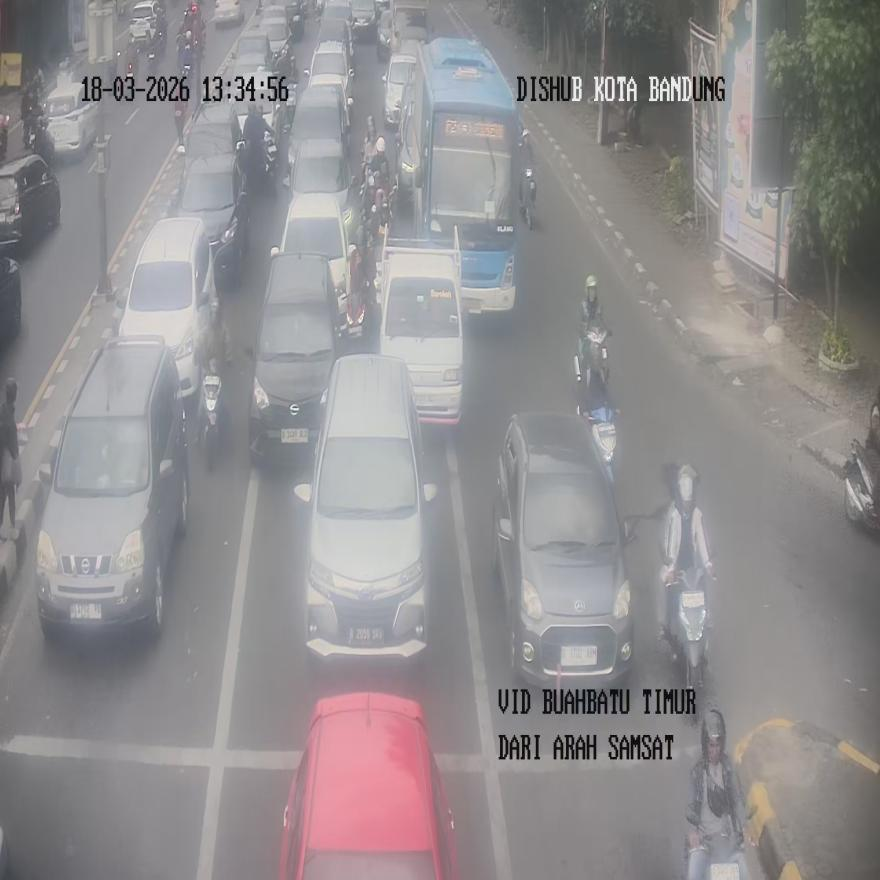Mobil: (35, 334, 189, 639), (294, 354, 438, 663), (492, 411, 638, 688), (279, 691, 458, 878), (246, 251, 345, 460), (118, 217, 216, 404), (378, 224, 464, 424)
bus: (400, 38, 520, 313)
